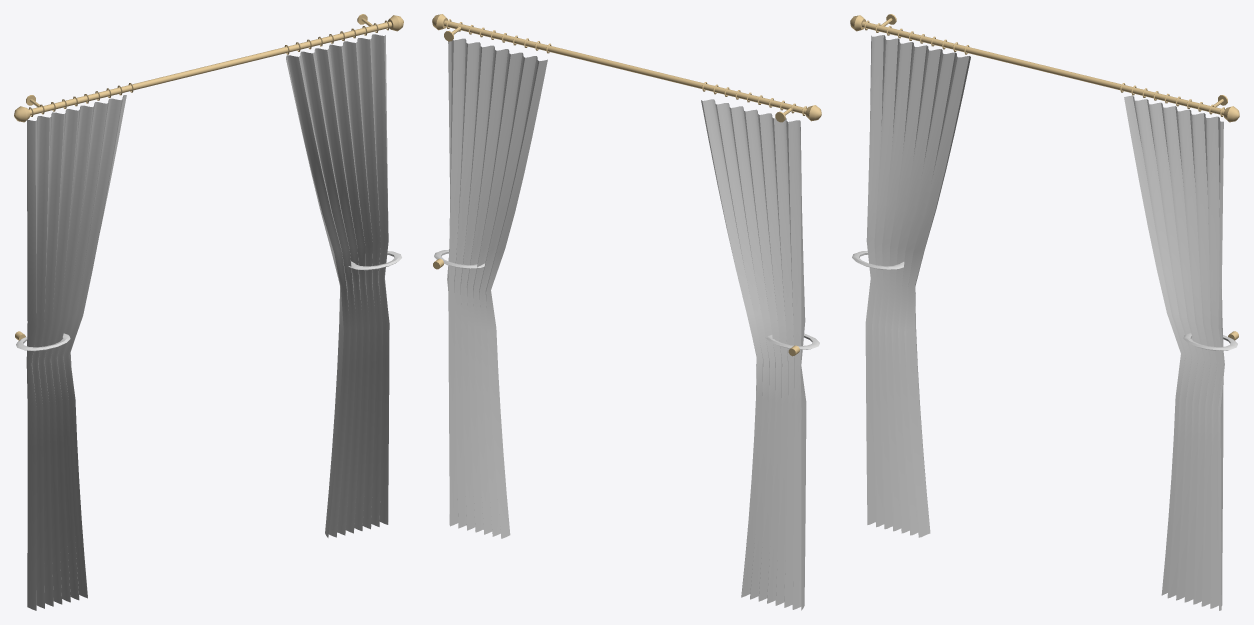
File: SM_Curtains_Window.fbx
3 views of the same model, side by side, from view 1: azimuth 30°, elevation 25°; view 2: azimuth 150°, elevation 25°; view 3: azimuth 330°, elevation 25° (orthographic).
Visible parts, largest first — view 1: SM_Curtains_Window_1; view 2: SM_Curtains_Window_1; view 3: SM_Curtains_Window_1.
Part boxes in pixels (<box>): SM_Curtains_Window_1: <box>14,14,403,610</box>; SM_Curtains_Window_1: <box>432,14,821,610</box>; SM_Curtains_Window_1: <box>850,14,1239,610</box>.
Size of the model in its own units: 159 by 198 by 15.4.
